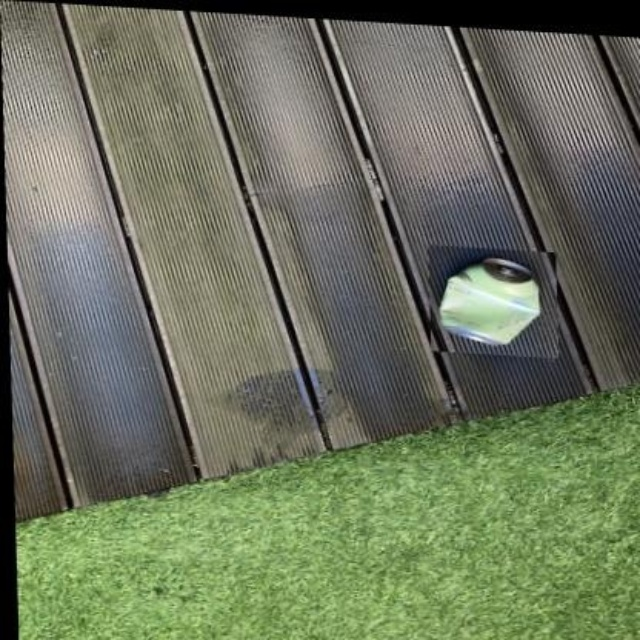trash: (440, 258, 538, 343)
